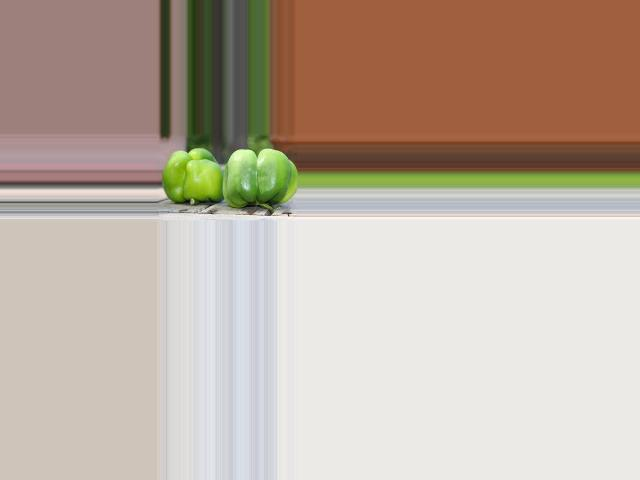bell_pepper: (159, 145, 224, 208)
